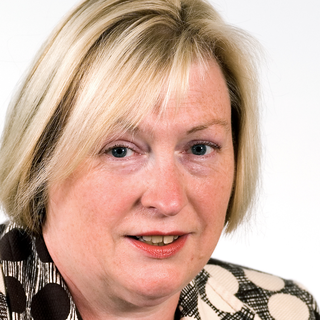eye: (97, 140, 146, 163), (179, 138, 222, 161)
